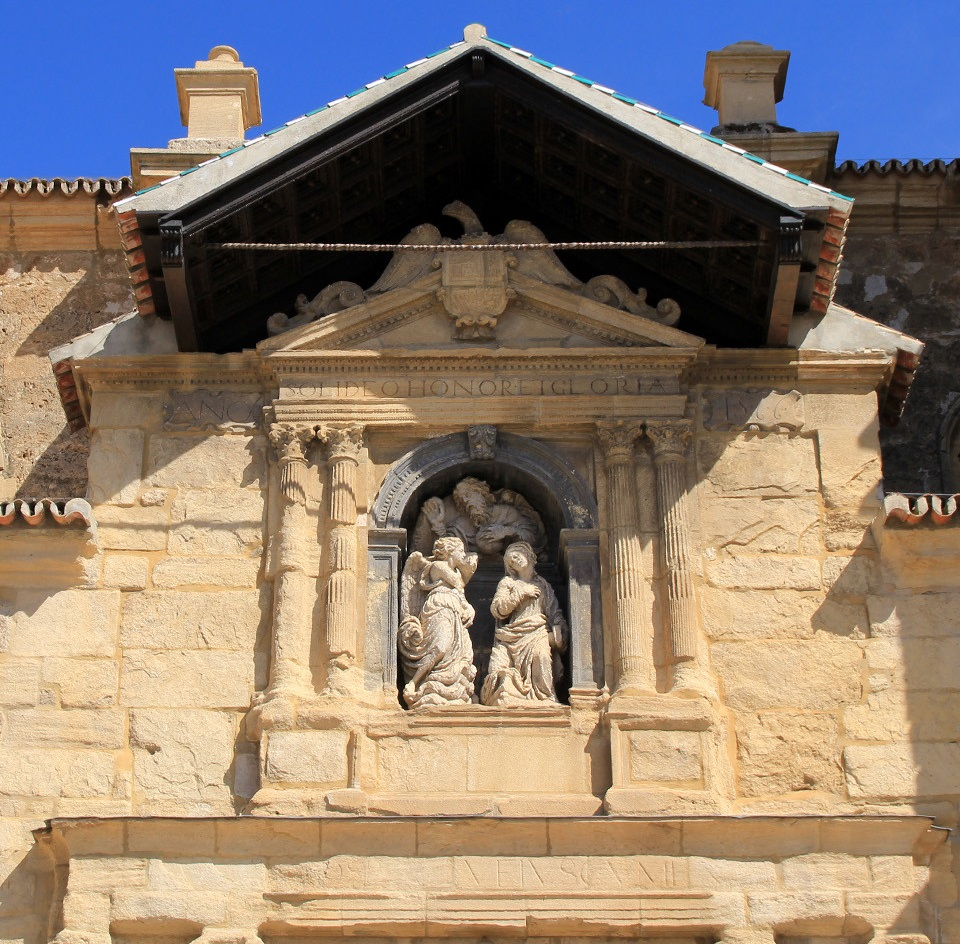fronton: (251, 251, 725, 380)
